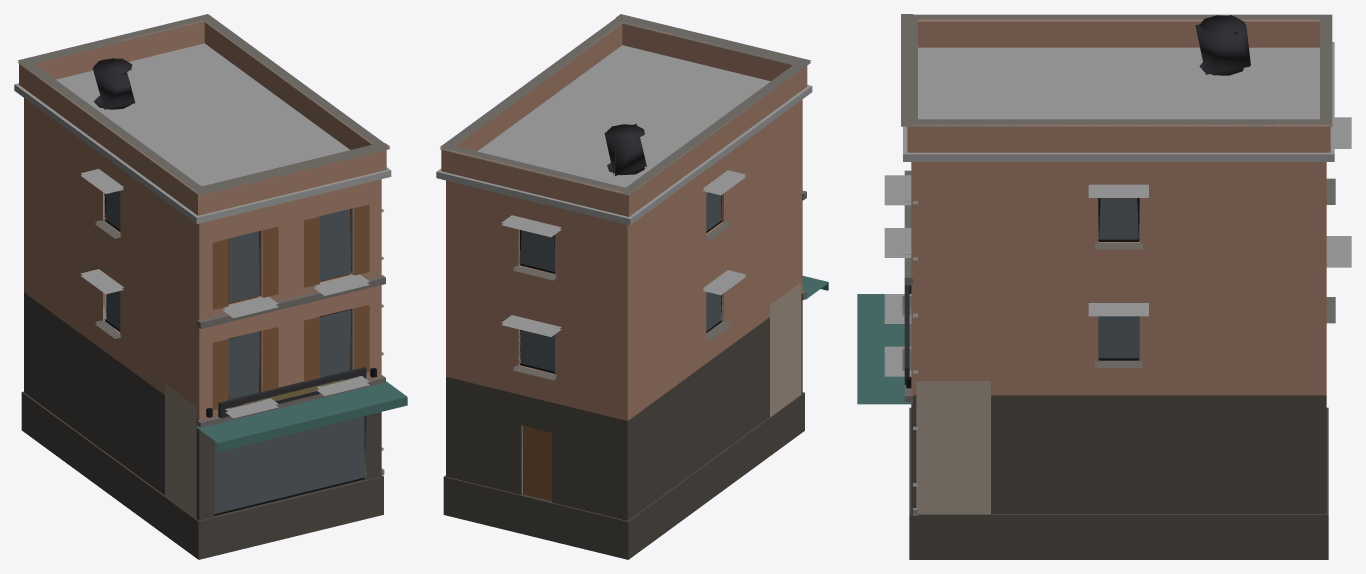
Rendered from shop_house_6x10_3_far.glb.
3 renders of one model, left to right at view 1: azimuth 30°, elevation 25°; view 2: azimuth 150°, elevation 25°; view 3: azimuth 270°, elevation 25°, orthographic. The views are drawn at different scales.
Parts seen in each view (by area): view 1: shop_house_6x10_3; view 2: shop_house_6x10_3; view 3: shop_house_6x10_3.
Boxes of the visible parts, x1=… form: shop_house_6x10_3: x1=14, y1=14, x2=407, y2=559; shop_house_6x10_3: x1=436, y1=14, x2=828, y2=559; shop_house_6x10_3: x1=857, y1=14, x2=1351, y2=559.
Bounding box in the file's own units: 7.22 × 12.1 × 11.91.
